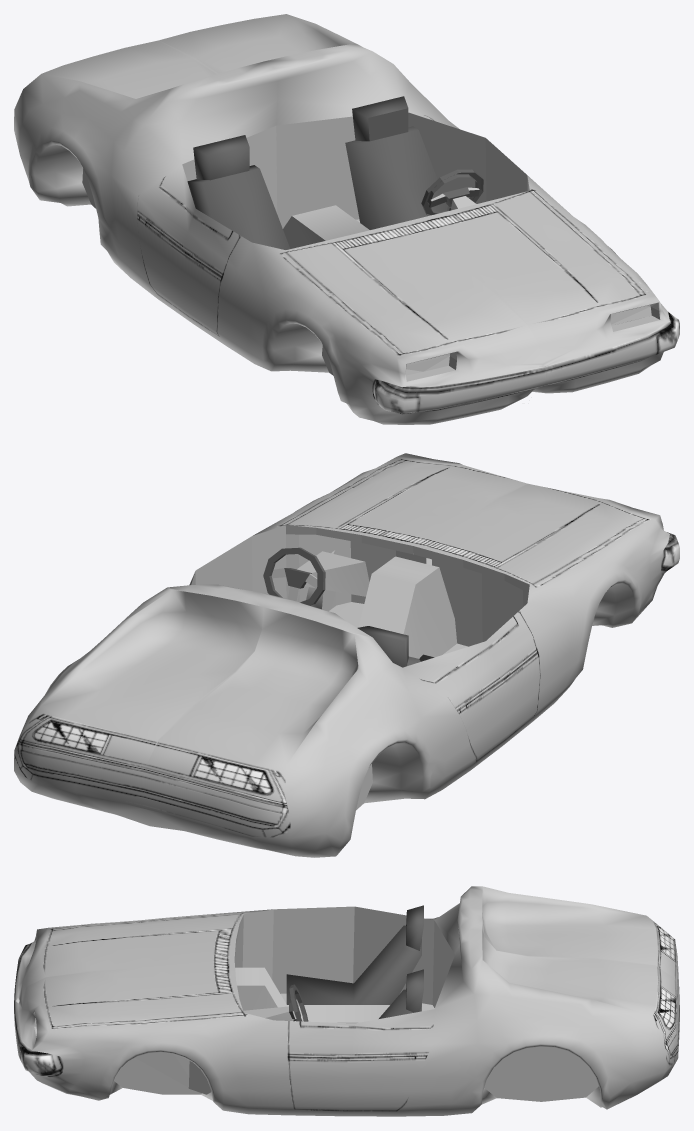
Rendered from Delorean.FBX.
3 views of the same model, one above another, from view 1: azimuth 30°, elevation 25°; view 2: azimuth 150°, elevation 25°; view 3: azimuth 270°, elevation 25° (orthographic). The views are drawn at different scales.
Parts seen in each view (by area): view 1: Chasis; view 2: Chasis; view 3: Chasis.
Boxes of the visible parts, left/top/right/bottom form: Chasis: left=14, top=14, right=679, bottom=424; Chasis: left=14, top=453, right=679, bottom=857; Chasis: left=14, top=886, right=679, bottom=1116.
Bounding box in the file's own units: 30.91 × 15.08 × 65.29.
1 material, 1 textured.
